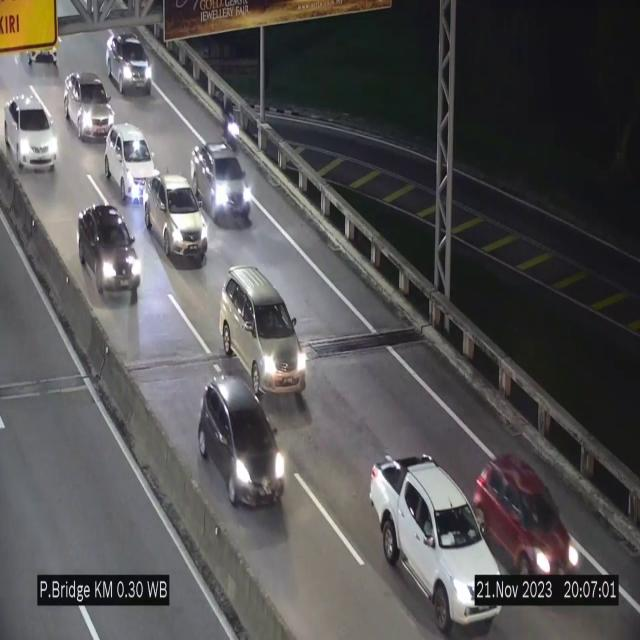Car: (370, 455, 502, 636), (474, 450, 579, 575), (195, 374, 286, 516), (220, 267, 308, 401), (77, 207, 142, 308), (144, 174, 208, 262), (191, 142, 251, 225), (105, 124, 162, 202), (5, 94, 58, 172), (64, 72, 115, 142), (106, 32, 153, 96)
Motorcycle: (222, 95, 241, 156)
